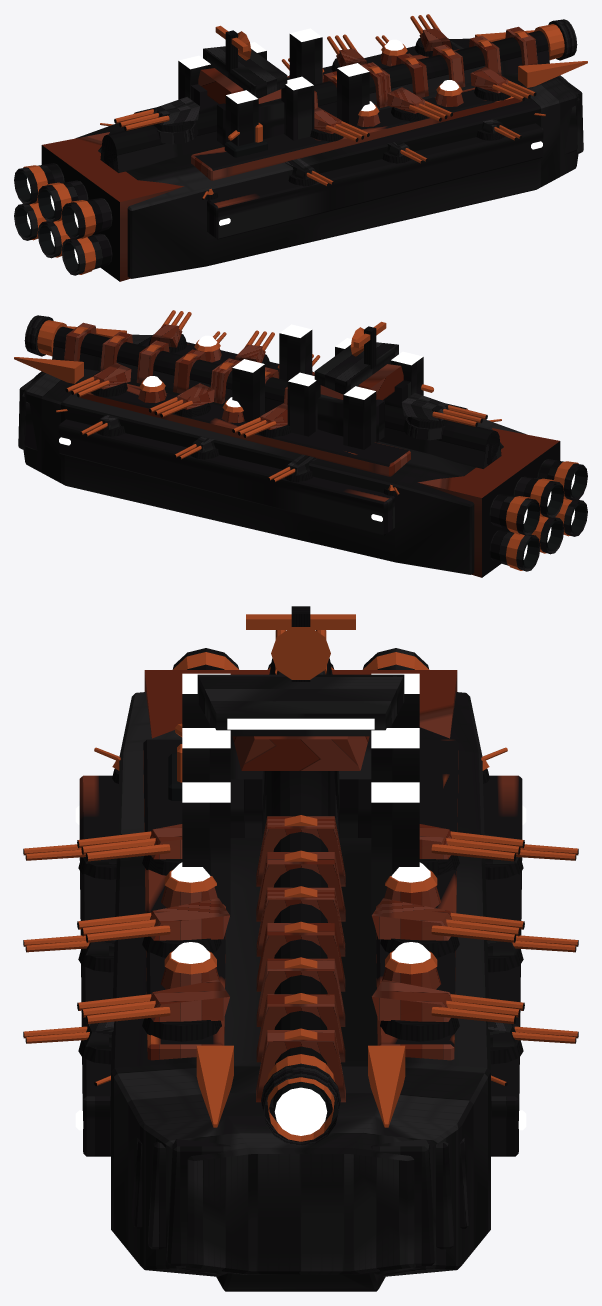
The model's file is battleship.glb.
3 views of the same model, one above another, from view 1: azimuth 30°, elevation 25°; view 2: azimuth 150°, elevation 25°; view 3: azimuth 270°, elevation 25° (orthographic). The views are drawn at different scales.
Visible parts, largest first — view 1: hull_body, weapon_mounts, engine_block, sensor_tower, shield_domes; view 2: hull_body, weapon_mounts, engine_block, sensor_tower, shield_domes; view 3: hull_body, weapon_mounts, sensor_tower, shield_domes, engine_block.
Boxes of the visible parts, x1,y1,x2,y2 form: hull_body: [75, 28, 587, 278]; weapon_mounts: [100, 14, 577, 199]; engine_block: [14, 132, 183, 281]; sensor_tower: [191, 25, 287, 145]; shield_domes: [322, 39, 463, 126]; hull_body: [14, 324, 526, 574]; weapon_mounts: [24, 310, 501, 495]; engine_block: [418, 428, 587, 577]; sensor_tower: [314, 321, 410, 442]; shield_domes: [138, 335, 279, 422]; hull_body: [75, 673, 526, 1291]; weapon_mounts: [23, 630, 578, 1146]; sensor_tower: [197, 606, 404, 837]; shield_domes: [161, 862, 440, 989]; engine_block: [144, 648, 457, 738].
Size of the model in its own units: 60 by 20.88 by 27.72.
1 material, 1 textured.
